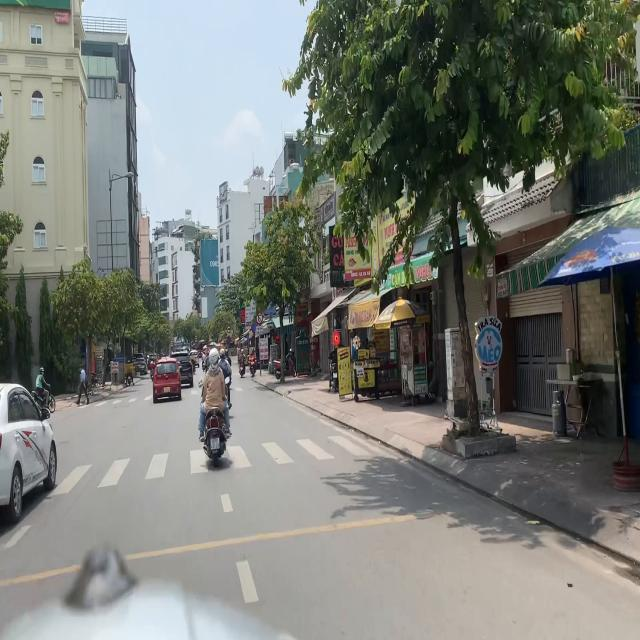Cam con lai: (227, 325, 230, 333)
Cam re phai: (256, 311, 263, 325)
